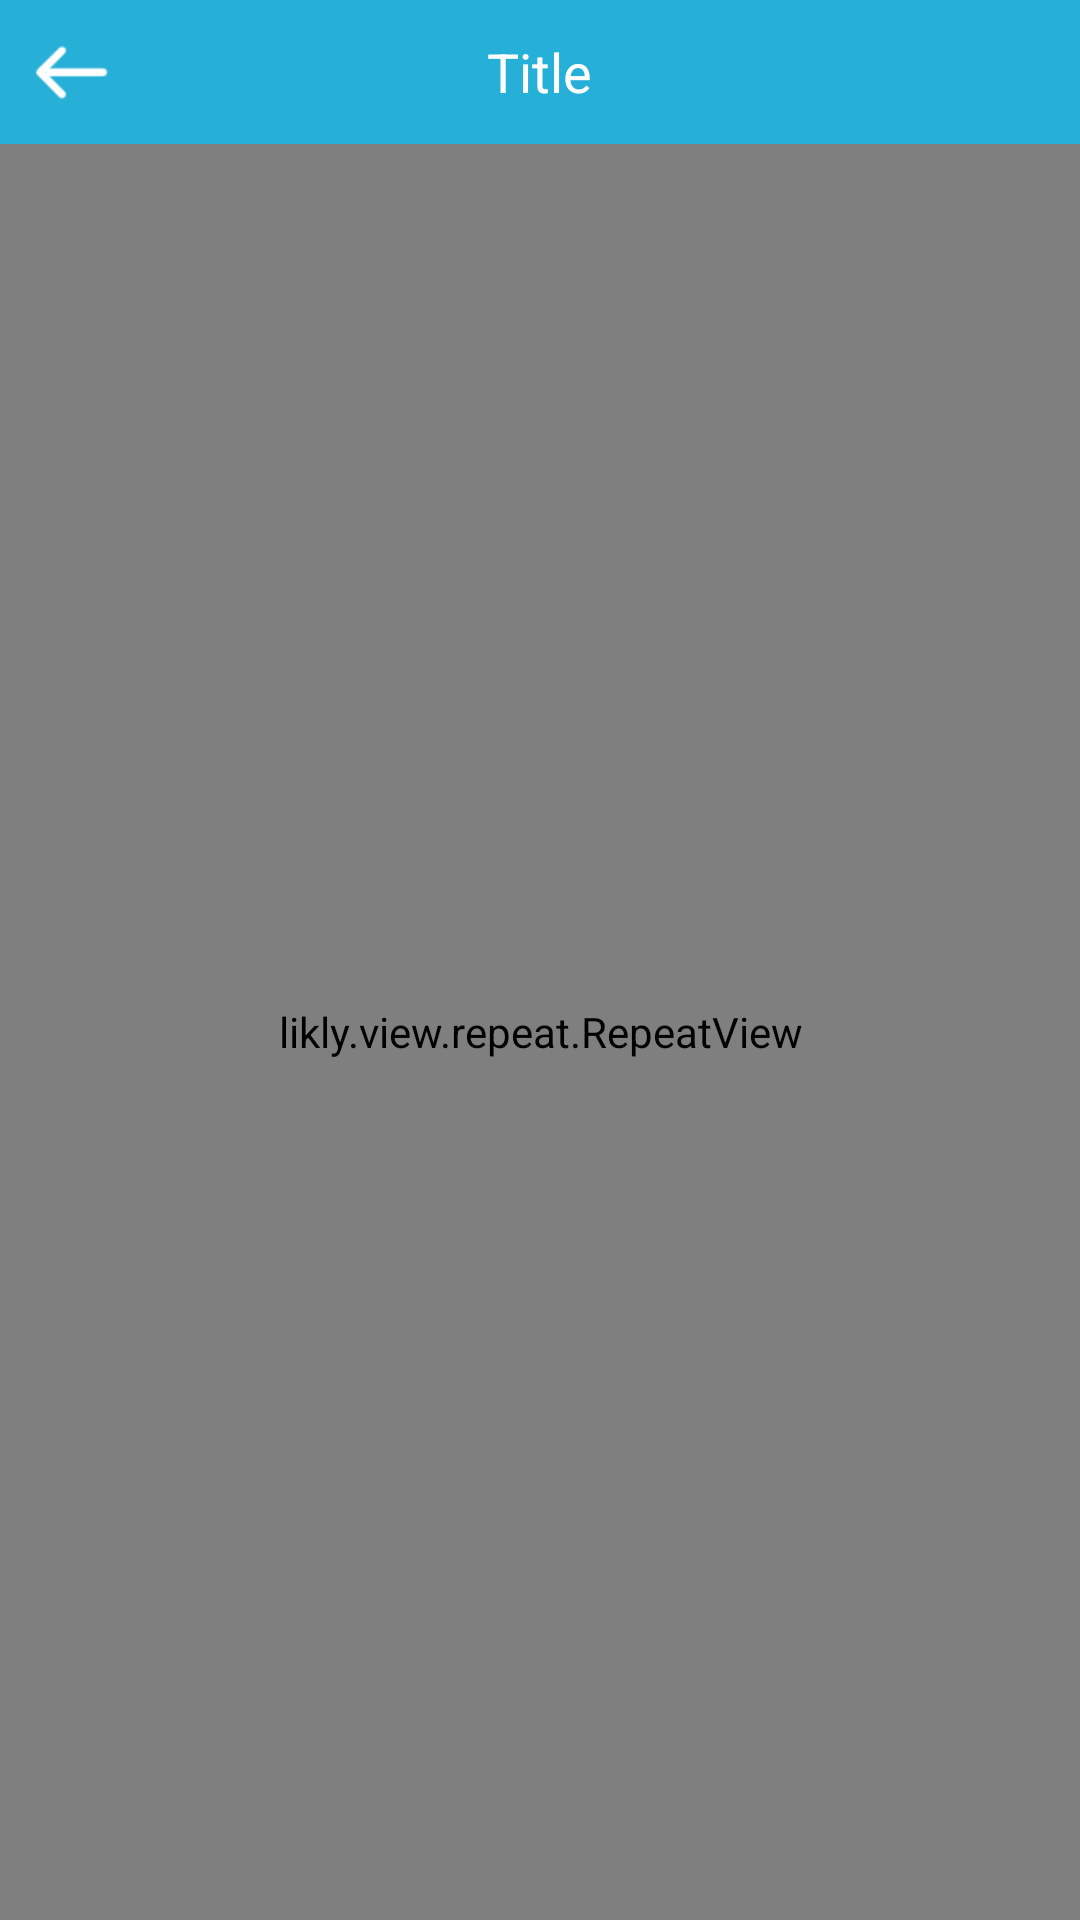

Icon bounding boxes for this 1080w x 1920h phone screenshot, format box=[x1, y1, x2, y2]:
back: box=[36, 46, 108, 99]
